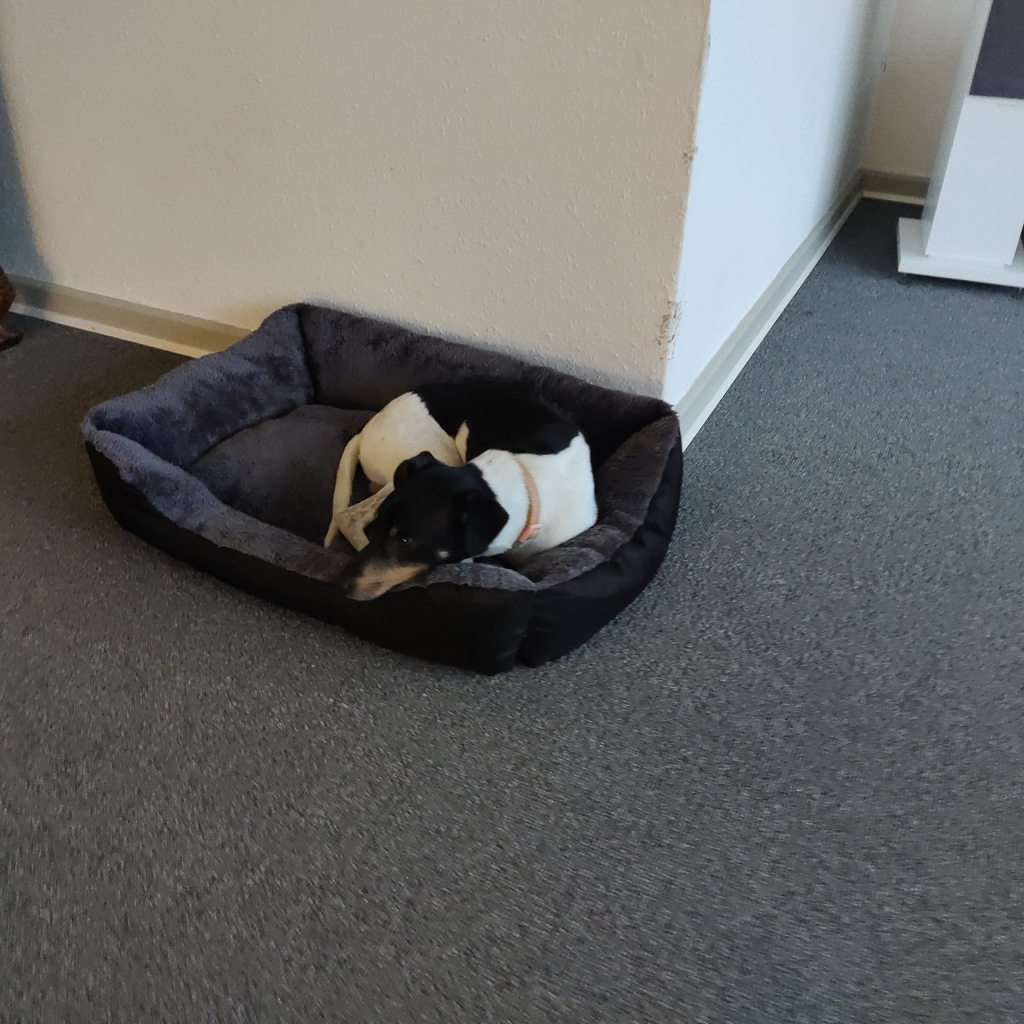Dog: (297, 354, 625, 637)
